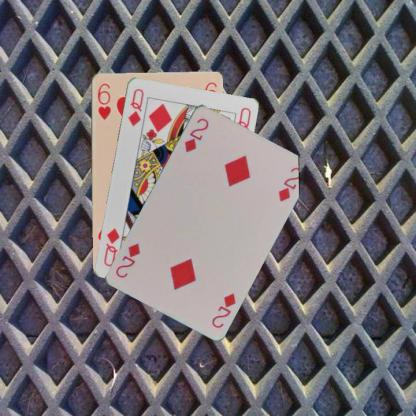2d: (181, 115, 210, 154), (208, 290, 237, 329)
6h: (95, 80, 112, 121)
Qd: (125, 86, 145, 127)
